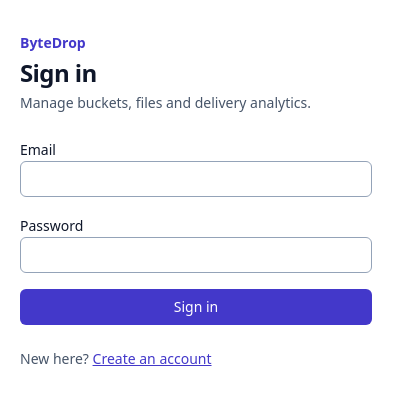
Test case: AuthForm › explains what is wrong before sending anything
This screenshot has width=393, height=405.
Click the button "Sign in": click(196, 307) x1=20 y1=289 x2=372 y2=325
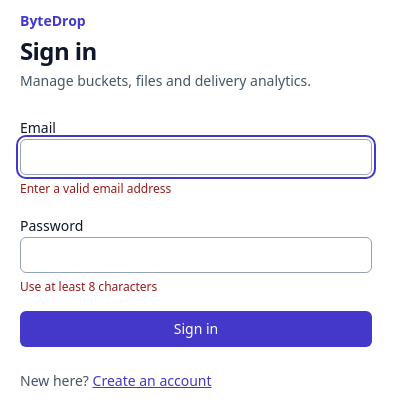
Expected: the text "Enter a valid email address" is shown, x1=20 y1=180 x2=171 y2=197
Expected: the text "Use at least 8 characters" is shown, x1=20 y1=278 x2=157 y2=295
